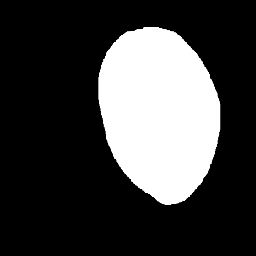mass: (101, 20, 219, 204)
